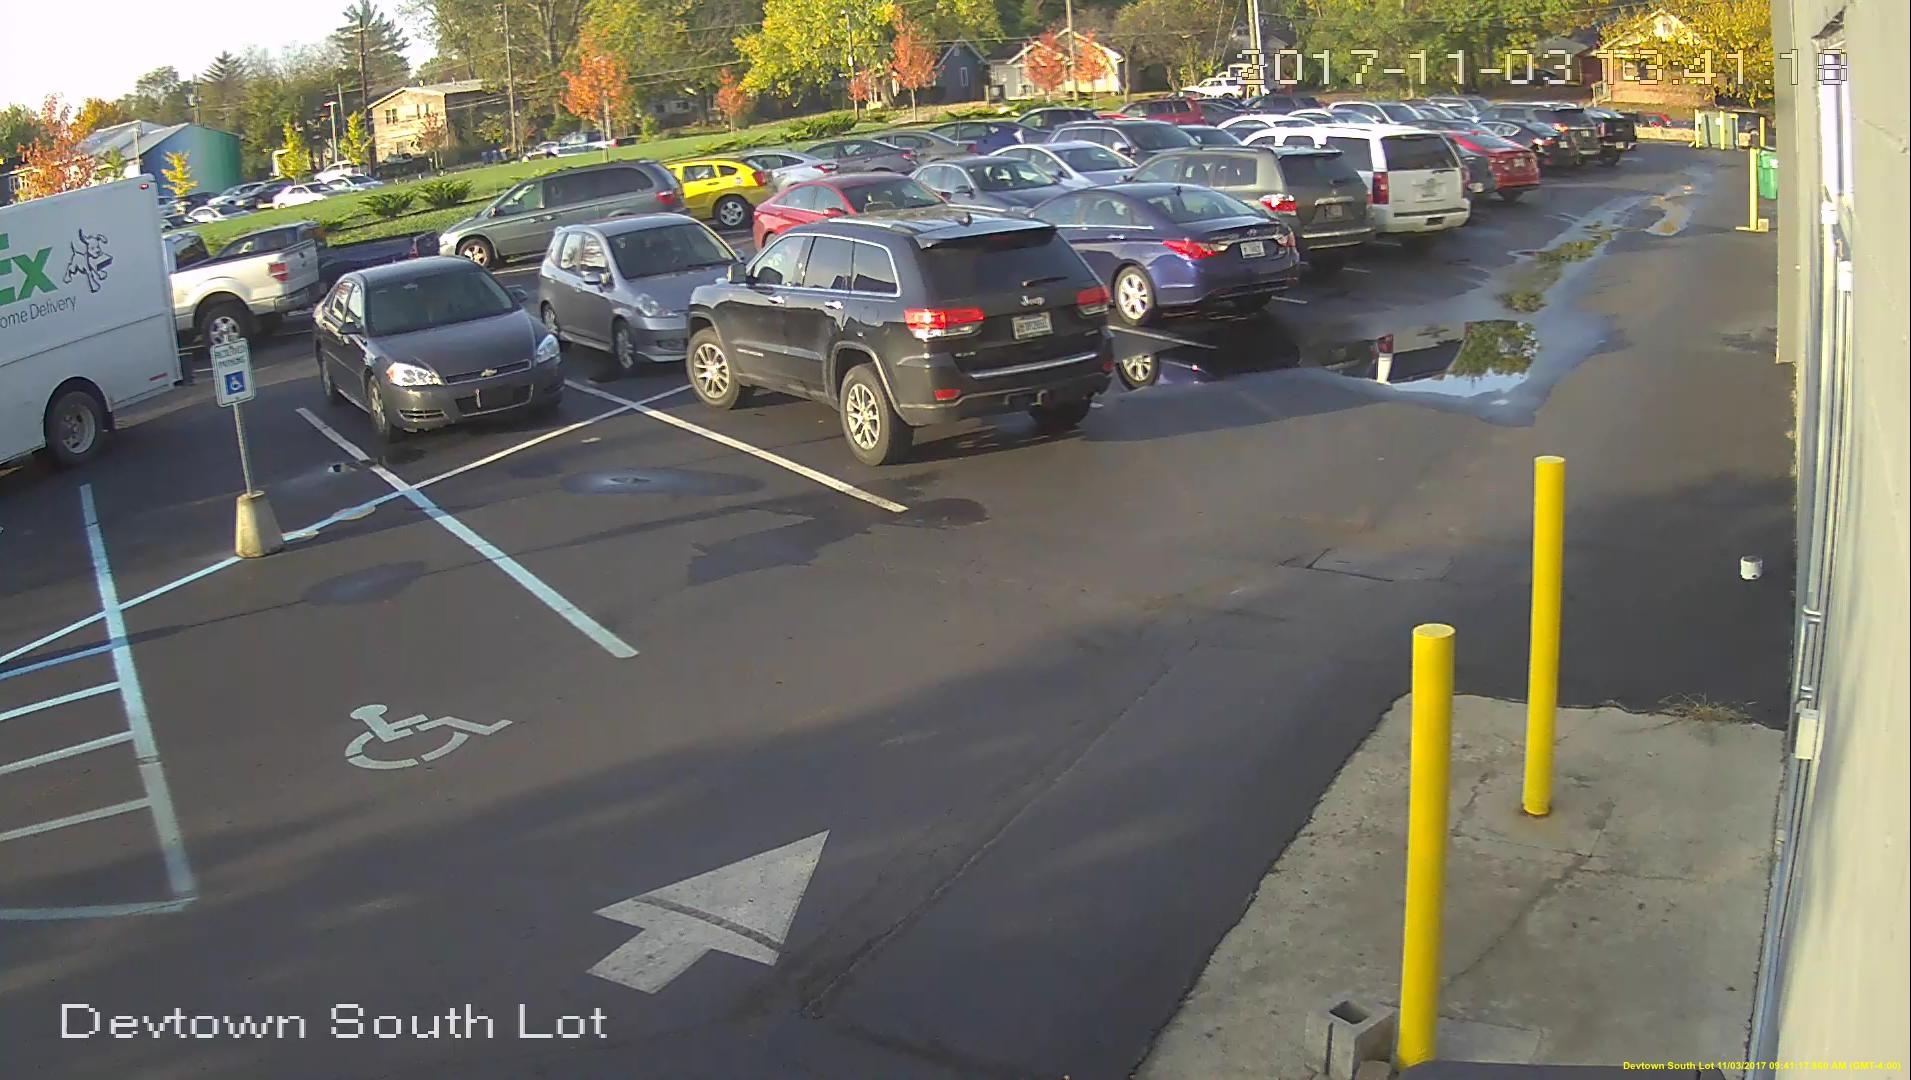fedex_truck: (1, 173, 176, 472)
